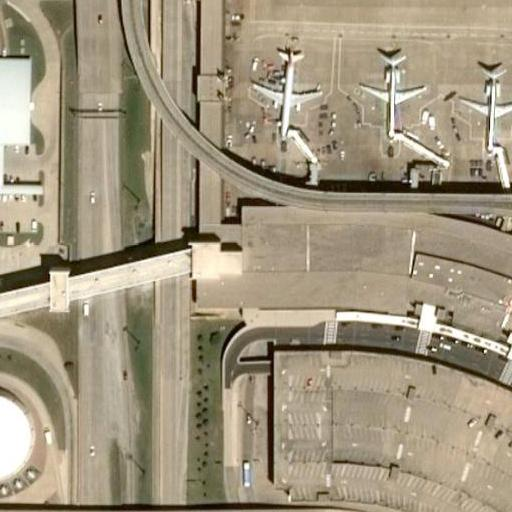Aircraft: (244, 34, 315, 141), (345, 41, 423, 137), (449, 57, 512, 159)
